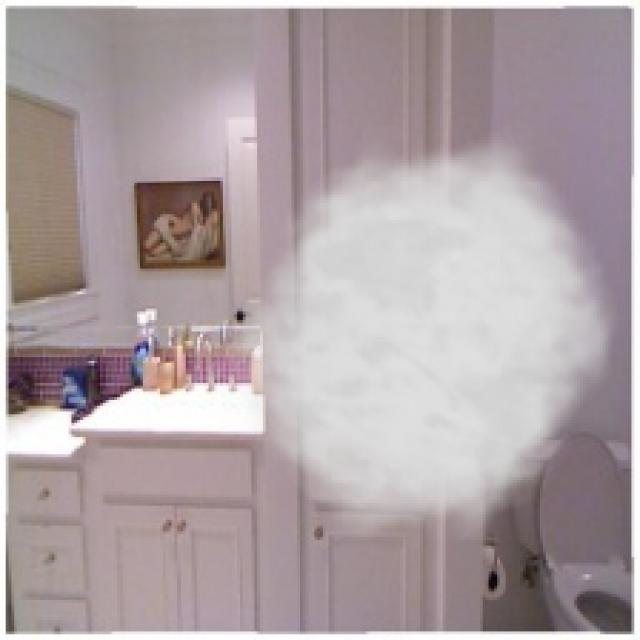Smoke: (220, 126, 626, 543)
